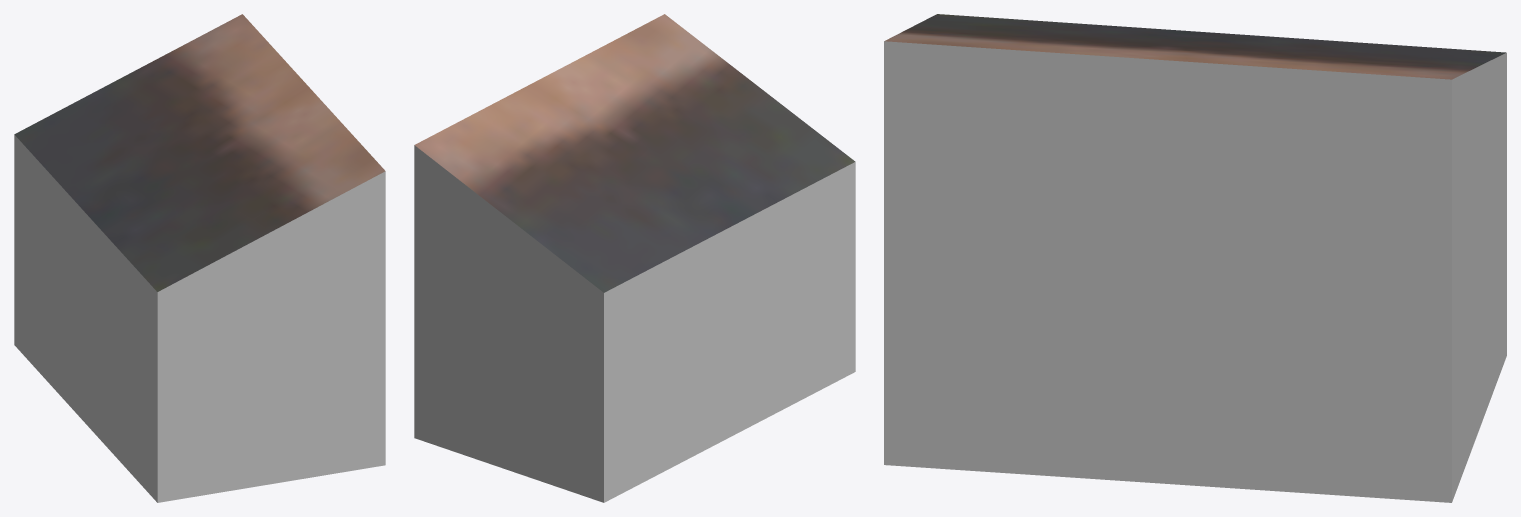
The model's file is DEBW_0010007Twr7.gltf.
The picture shows the model from 3 angles, left to right: view 1: azimuth 30°, elevation 25°; view 2: azimuth 150°, elevation 25°; view 3: azimuth 270°, elevation 25°; orthographic projection. The views are drawn at different scales.
Parts seen in each view (by area): view 1: Z_UP; view 2: Z_UP; view 3: Z_UP.
Boxes of the visible parts, x1,y1,x2,y2 form: Z_UP: [14, 14, 385, 502]; Z_UP: [414, 14, 855, 502]; Z_UP: [884, 14, 1506, 502].
Bounding box in the file's own units: 4.79 × 5.11 × 6.8.
Materials: 2 (1 with a texture image).
